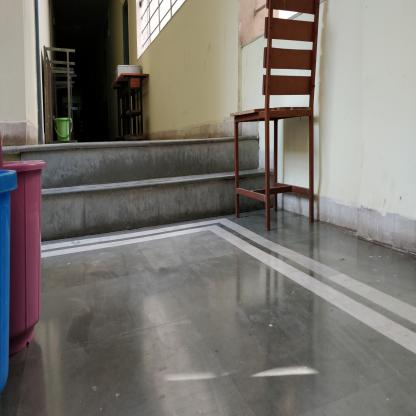stairs: (46, 136, 234, 244)
